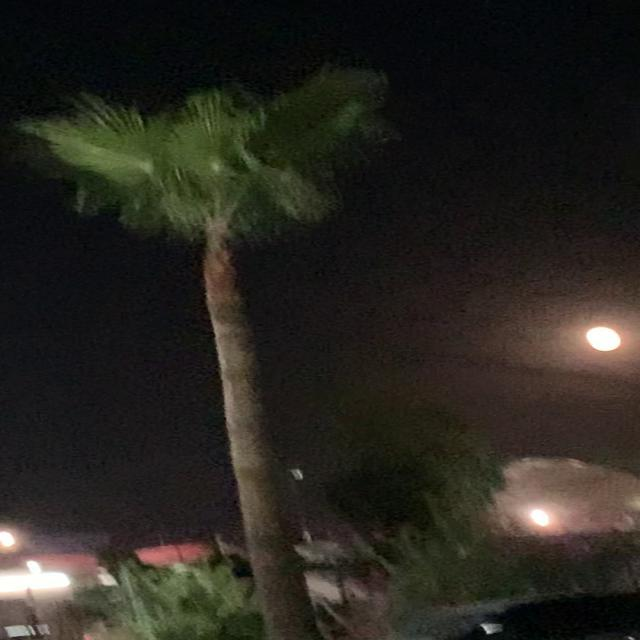moon: (309, 227, 367, 255)
